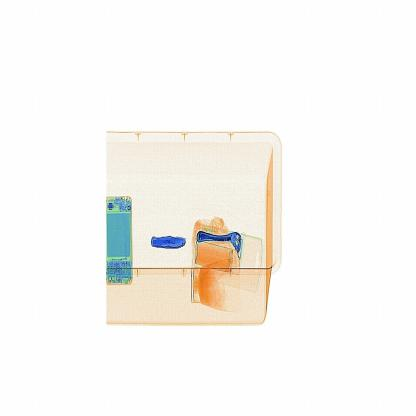knife: (150, 231, 188, 253)
